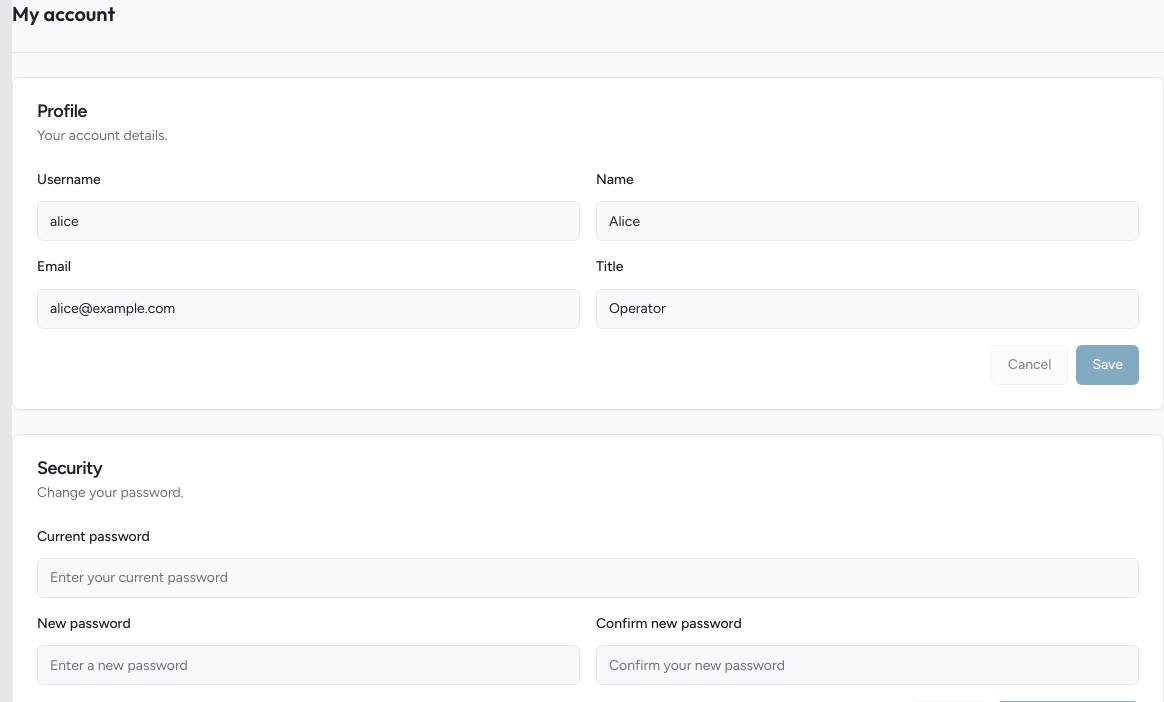
Test case: SettingsPage › keeps the security submit disabled until a password is entered
This screenshot has width=1164, height=702.
In the password field labelled "New password": (308, 665) [37,645,580,685], type "x"
(page scrolled)
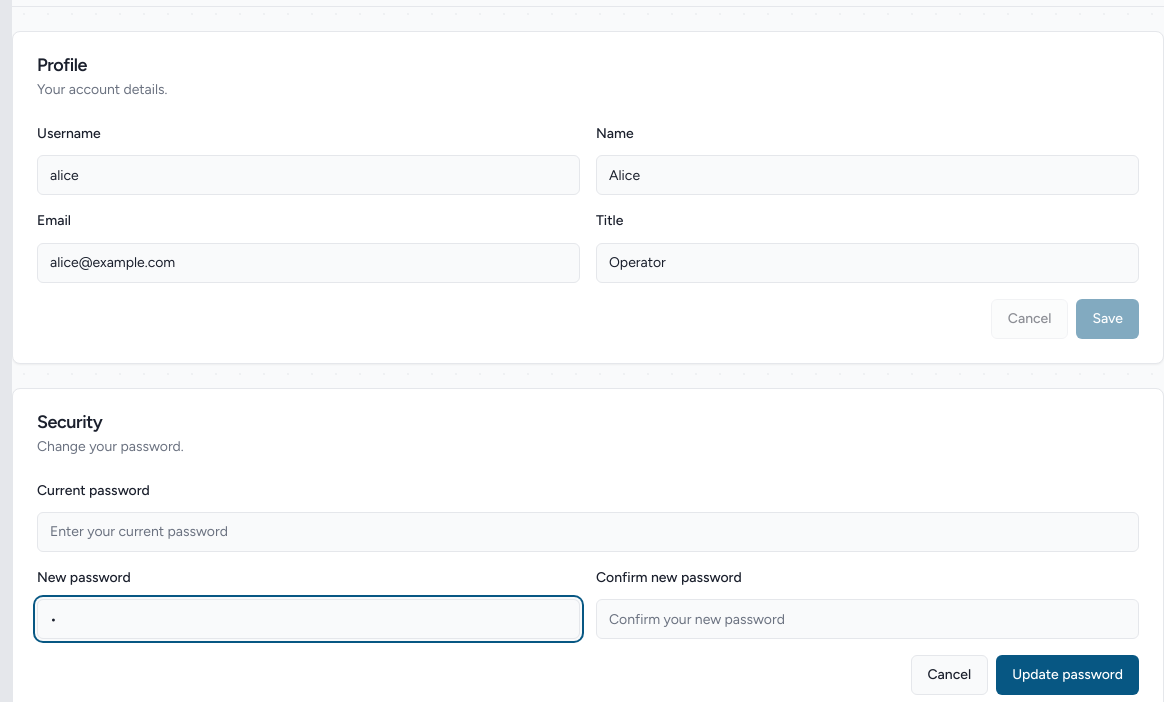
Check: the button "Update password" is enabled, box [996,655,1139,695]
